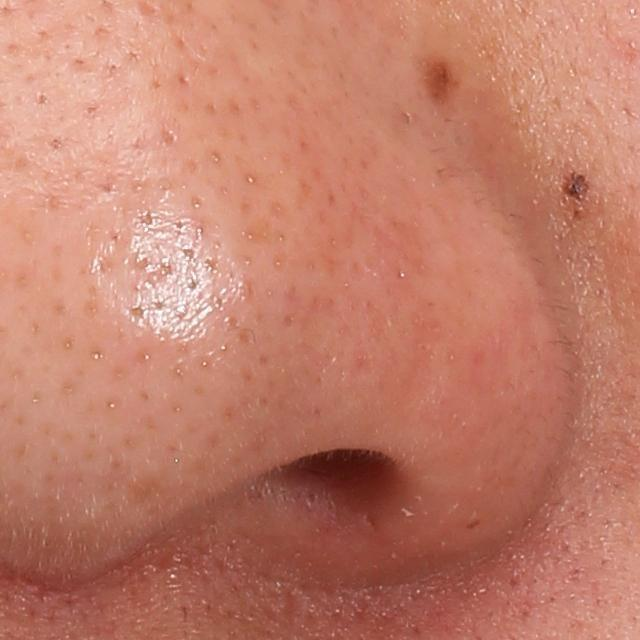nevus: (409, 53, 457, 108), (558, 168, 591, 208)
